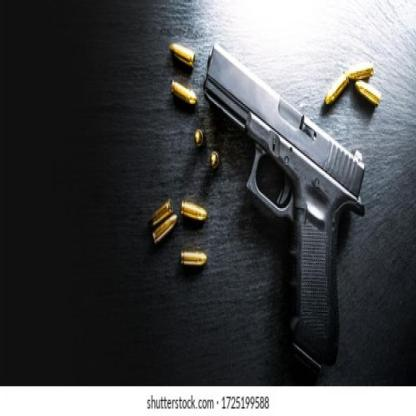handgun: (205, 37, 363, 378)
